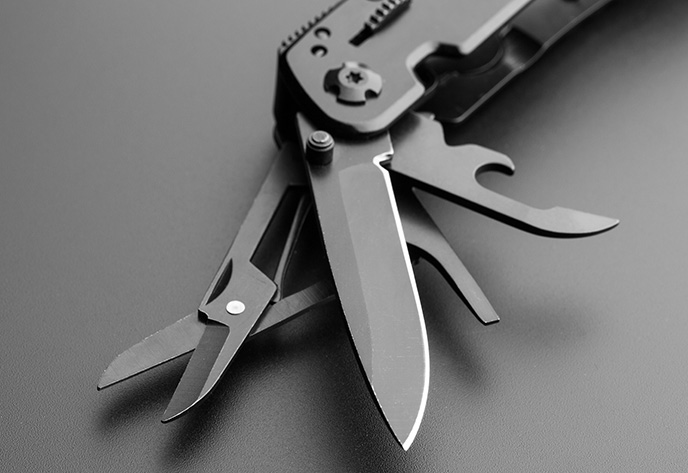knief: (83, 18, 639, 451)
